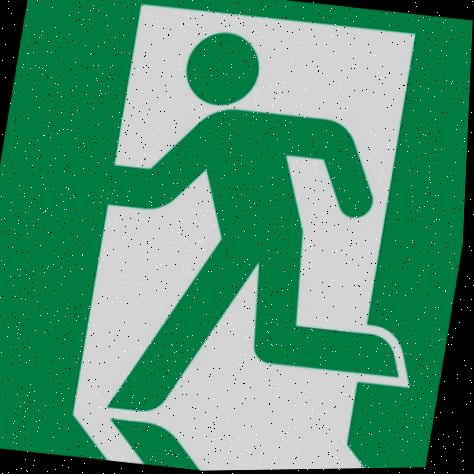emergency_exit: (1, 1, 471, 471)
